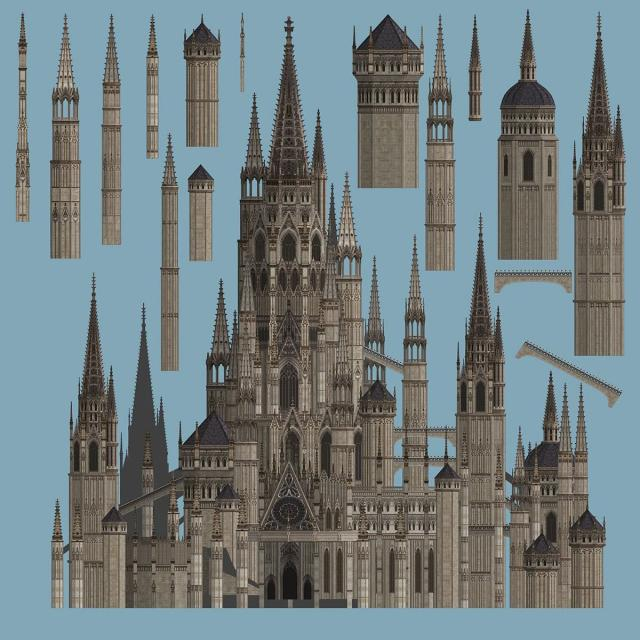castle: (216, 21, 357, 610)
